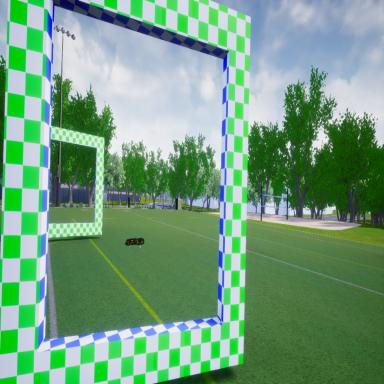gate: (1, 0, 252, 384), (44, 123, 105, 243)
